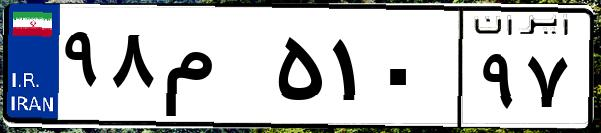0: (385, 28, 445, 110)
1: (330, 28, 385, 110)
5: (270, 28, 330, 110)
7: (525, 38, 570, 115)
8: (110, 28, 158, 98)
9: (57, 26, 110, 100), (475, 38, 525, 113)
م: (158, 20, 270, 120)
